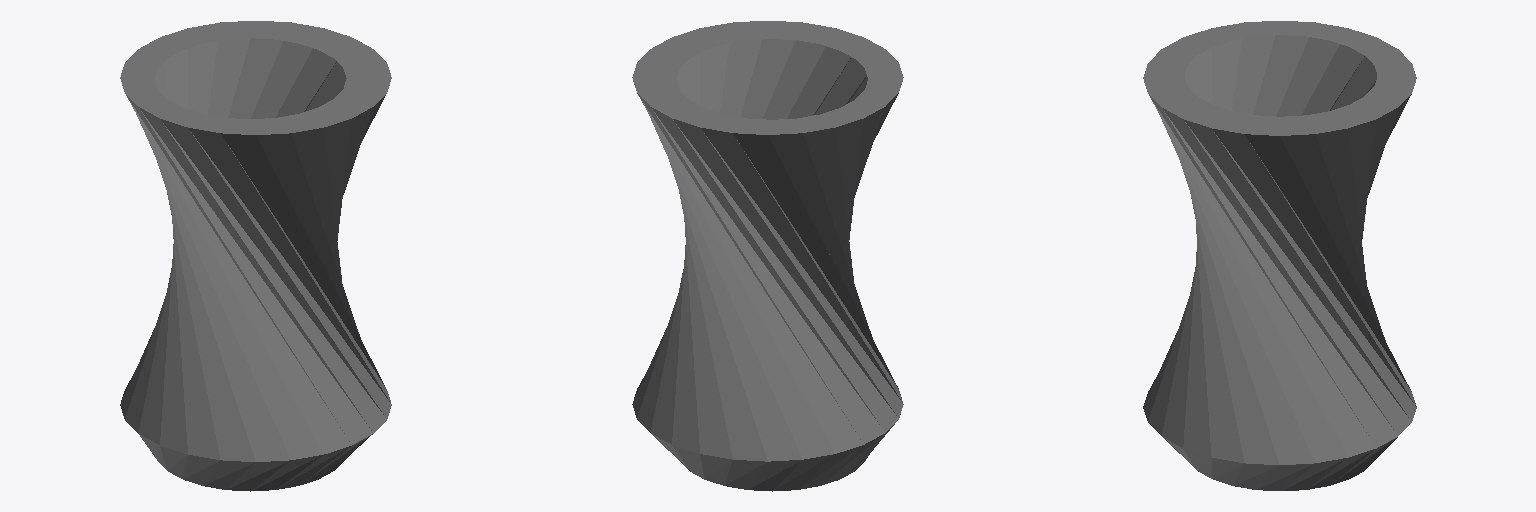
The robot description file, URDF, robot "object":
<?xml version="1.0"?>
<robot name="object">
  <link name="object">
    <visual>
      <origin xyz="0 0 0"/>
      <geometry>
        <mesh
          filename="../../mesh/oakink_virtual/cylinder_bottle_s563.stl" />
      </geometry>
      <material name="mat">
        <color rgba="0.5 0.5 0.5 1"/>
      </material>
    </visual>

    <collision>
      <origin xyz="0 0 0"/>
      <geometry>
        <mesh
          filename="../../mesh/oakink_virtual/cylinder_bottle_s563.stl" />
      </geometry>
    </collision>
  </link>
</robot>

--- What the picture shows (computed from the rendered views, not written in the file) ---
3 views of the same robot in one strip: view 1: azimuth 30°, elevation 25°; view 2: azimuth 150°, elevation 25°; view 3: azimuth 270°, elevation 25° (orthographic).
Model object with 1 links and 0 joints (none), rooted at object, posed all joints at 0.
Visible links, largest first — view 1: object; view 2: object; view 3: object.
Link boxes in pixels (x1,y1,x2,y2): object: (120,21,391,491); object: (632,21,903,491); object: (1143,21,1416,490).
Size in the robot's own frame: 0.0742 by 0.0742 by 0.1122 metres.
Meshes: 1 distinct files referenced, 1 mesh visuals loaded (1 binary STL).